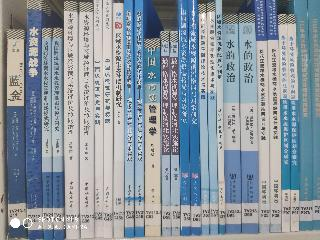book-spine: (294, 0, 312, 229), (6, 31, 25, 237), (223, 15, 240, 233), (240, 15, 257, 232), (266, 1, 281, 231), (28, 2, 42, 237), (255, 1, 269, 232), (65, 2, 78, 237), (80, 4, 93, 237), (188, 1, 200, 234), (145, 40, 159, 235), (179, 1, 190, 235), (309, 1, 320, 229), (278, 15, 289, 231), (93, 1, 103, 236), (215, 0, 225, 233), (198, 4, 208, 234), (52, 29, 63, 238), (207, 4, 217, 233), (288, 15, 298, 230), (114, 3, 123, 235), (125, 0, 133, 236), (43, 29, 52, 238), (161, 33, 170, 235), (104, 1, 111, 236), (136, 0, 143, 235), (171, 33, 179, 234)
